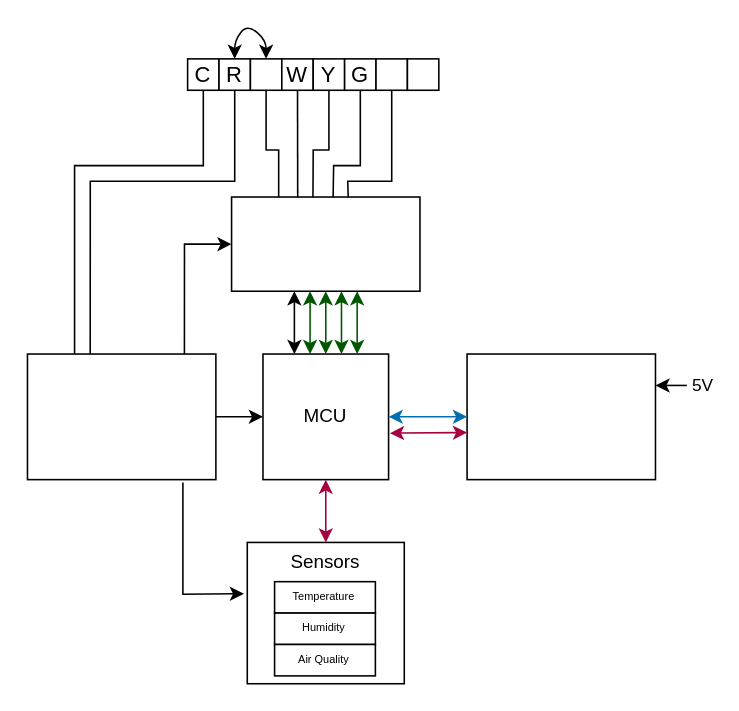
Some shapes in this 739 by 711 pixel diagram are drawn without their labels. Each missing label, with the centre of its shape:
"Power Supply (24VAC to 5VDC)" goes at [121,416].
"RC" goes at [265,73].
"Relay Board (x4)" goes at [325,243].
"Touch Screen" goes at [560,416].
